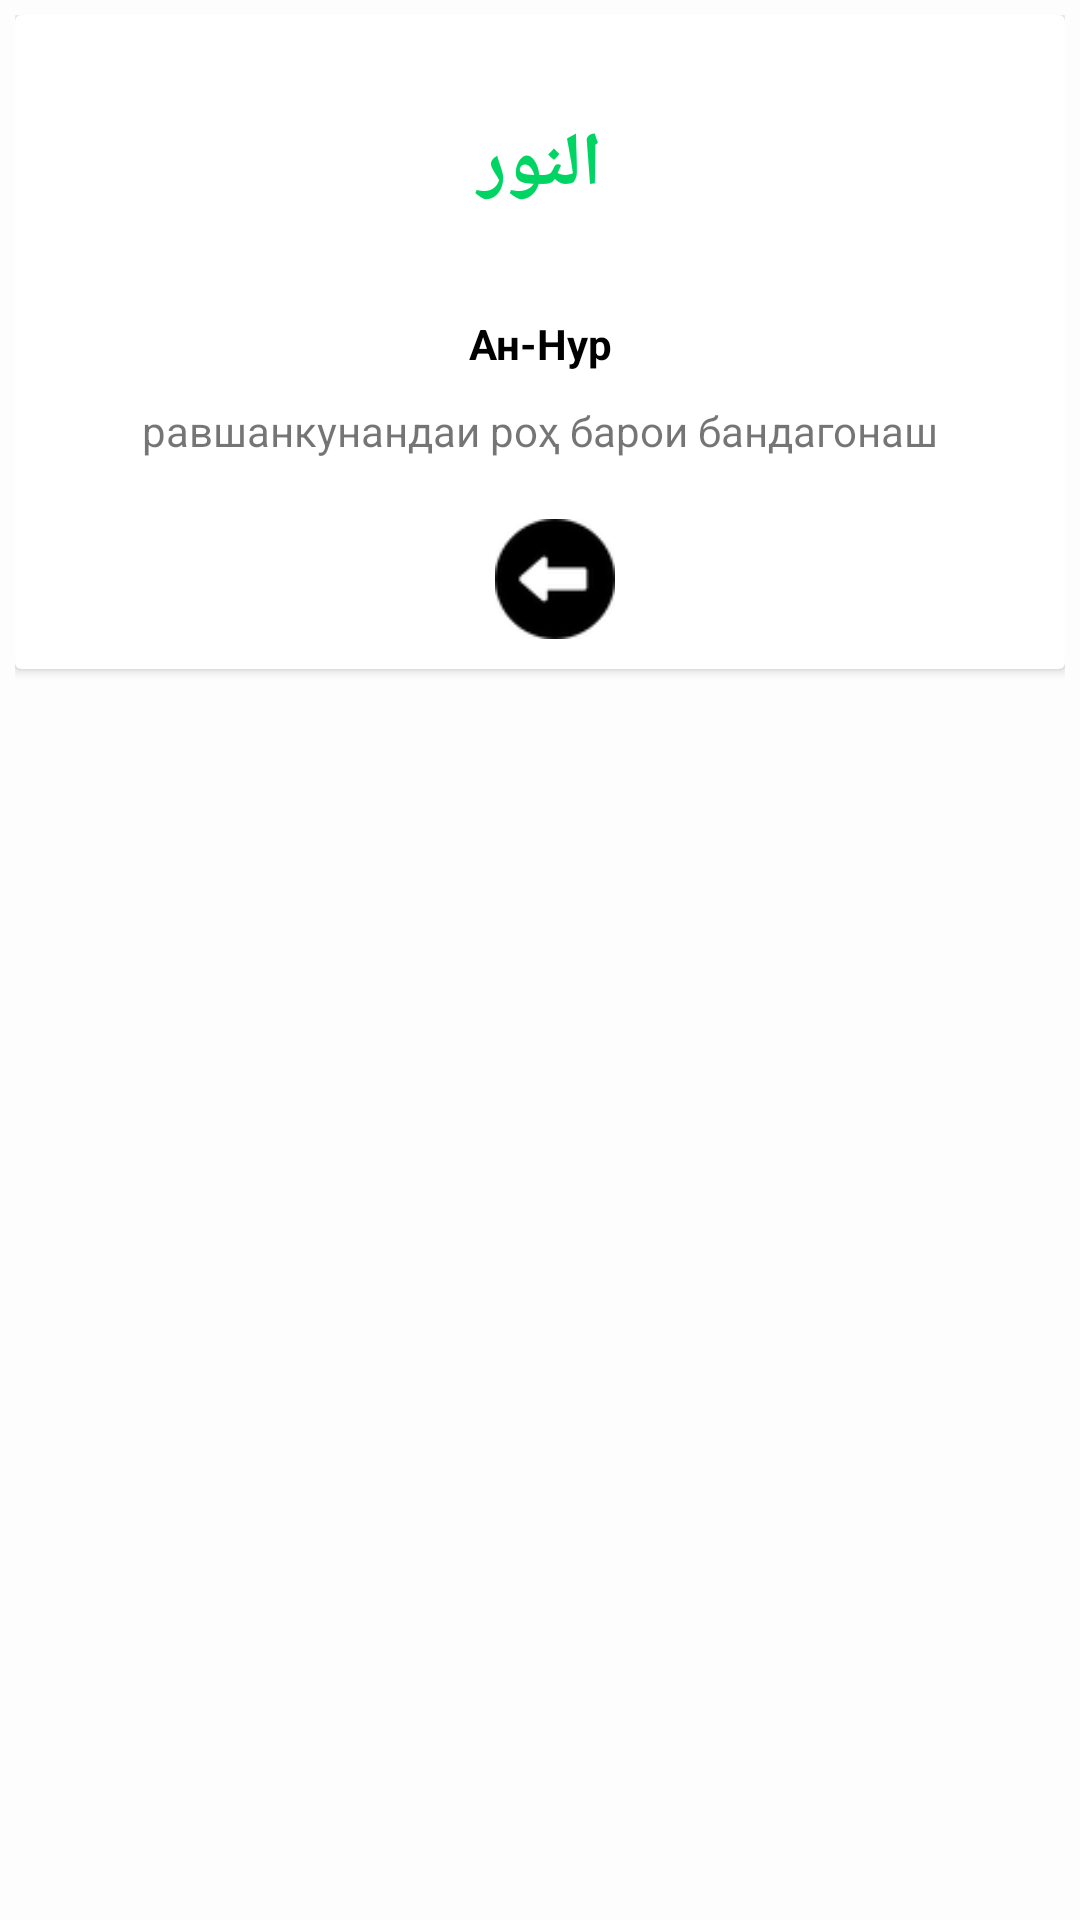

Icon click points for this 1080x1920 phone screenshot, format (x,y):
back: (555,579)
